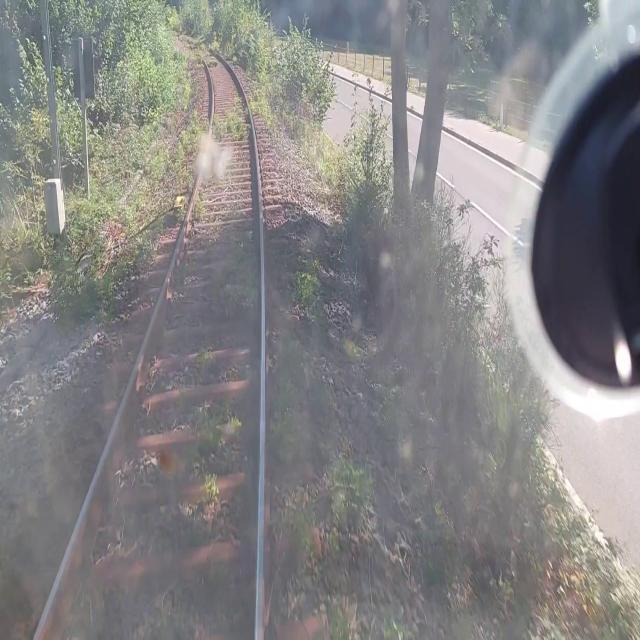Plant: (115, 145, 172, 292), (162, 23, 219, 111), (329, 460, 371, 558), (184, 399, 242, 469), (210, 238, 259, 315), (272, 372, 303, 462), (171, 111, 206, 188), (248, 70, 281, 127), (274, 508, 314, 552), (213, 94, 248, 136), (294, 258, 319, 302), (194, 345, 217, 383), (328, 606, 351, 637), (202, 471, 216, 501), (207, 53, 218, 68), (193, 204, 200, 222)
